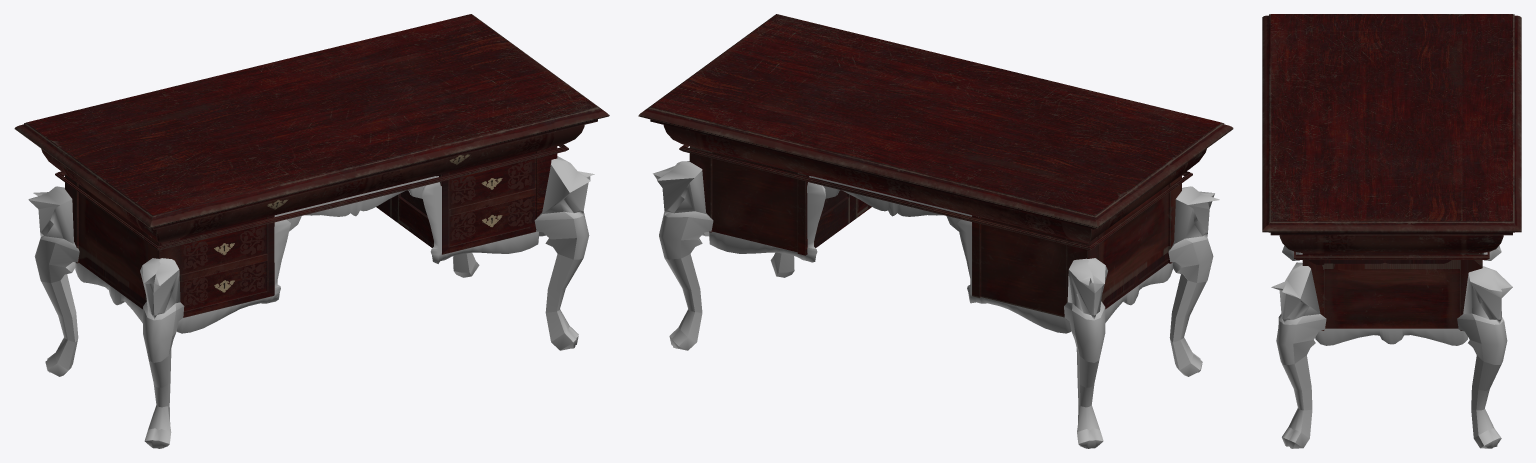
The model's file is Table-desk_Mesh.fbx.
3 views of the same model, side by side, from view 1: azimuth 30°, elevation 25°; view 2: azimuth 150°, elevation 25°; view 3: azimuth 270°, elevation 25° (orthographic). The views are drawn at different scales.
Parts seen in each view (by area): view 1: table_desk; view 2: table_desk; view 3: table_desk.
Boxes of the visible parts, x1,y1,x2,y2 form: table_desk: (14,14,609,448); table_desk: (638,14,1233,448); table_desk: (1262,14,1521,448).
Bounding box in the file's own units: 196 × 101 × 100.
